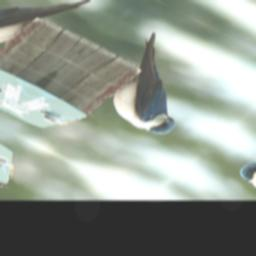Swallow: (75, 31, 239, 140)
